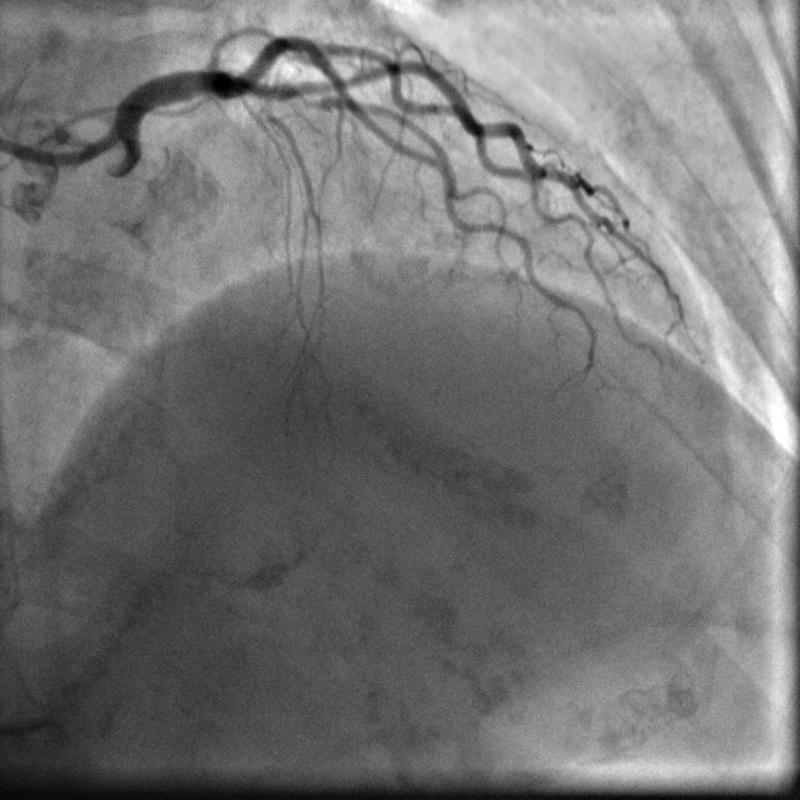Stenosis: (302, 93, 332, 108)
